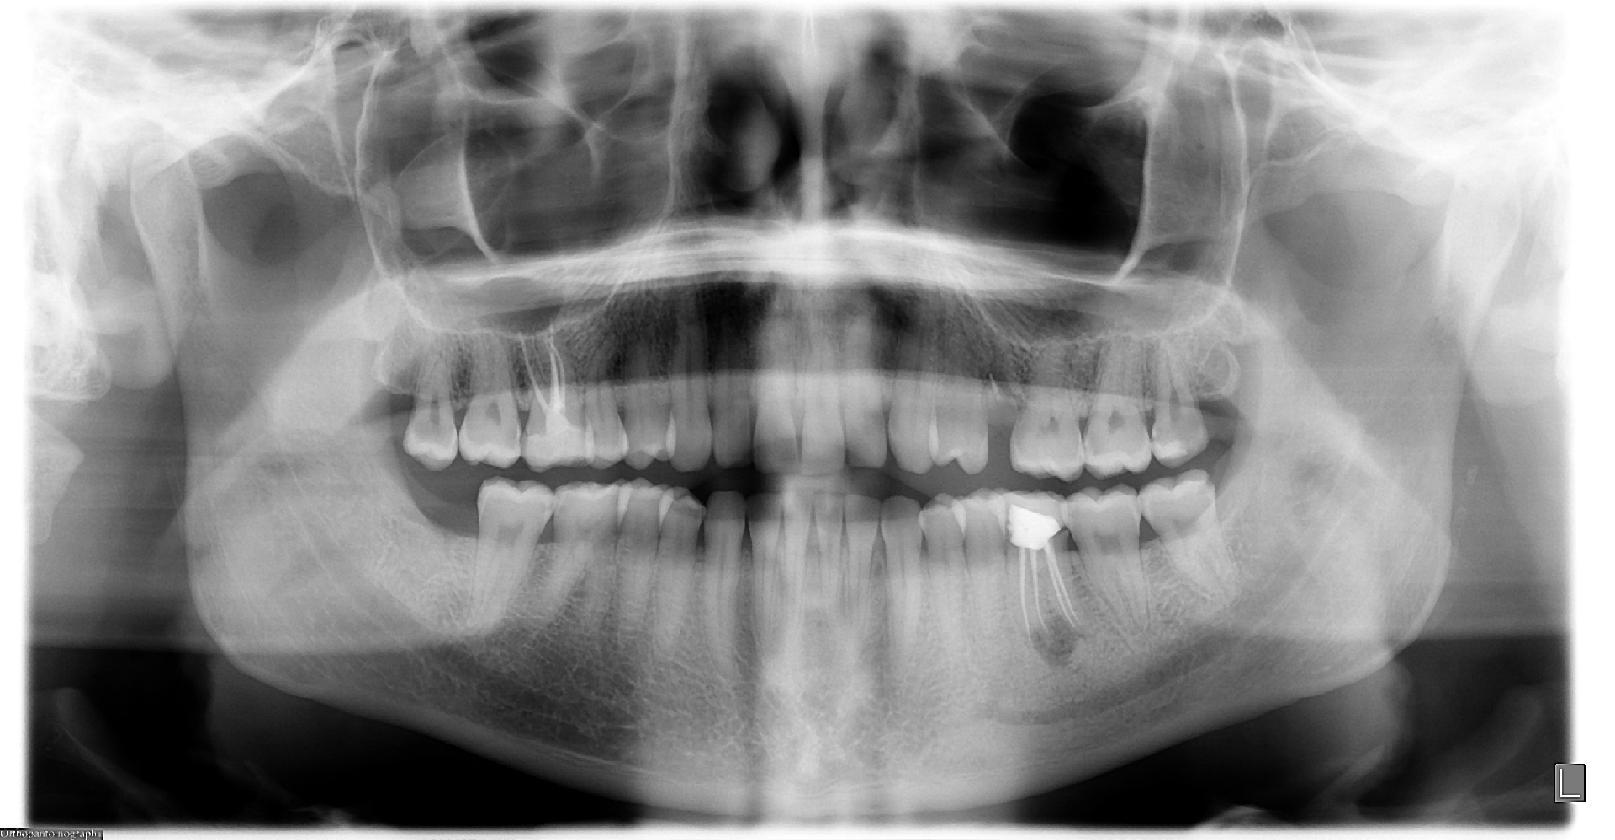Erupted: (1144, 470, 1240, 616)
